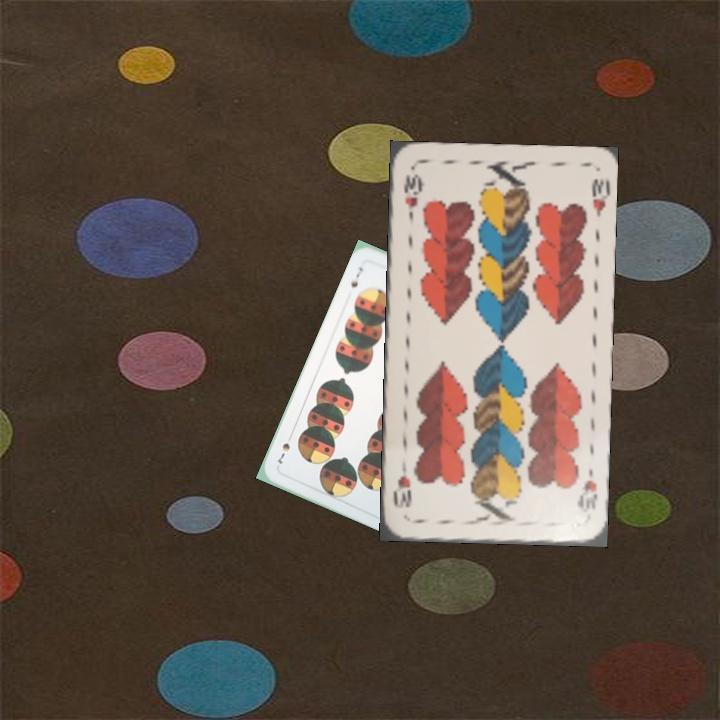H10: (573, 464, 600, 515), (400, 170, 423, 225)
S7: (347, 263, 365, 290)
